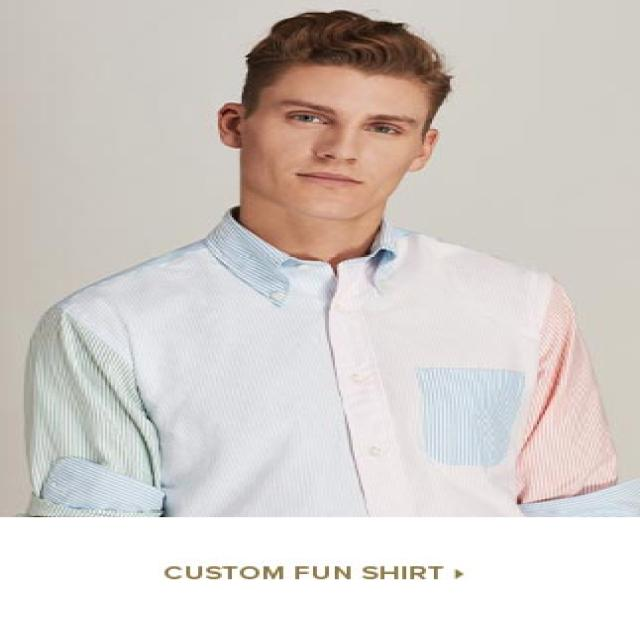mobile_phonerotation: (18, 8, 638, 517)
